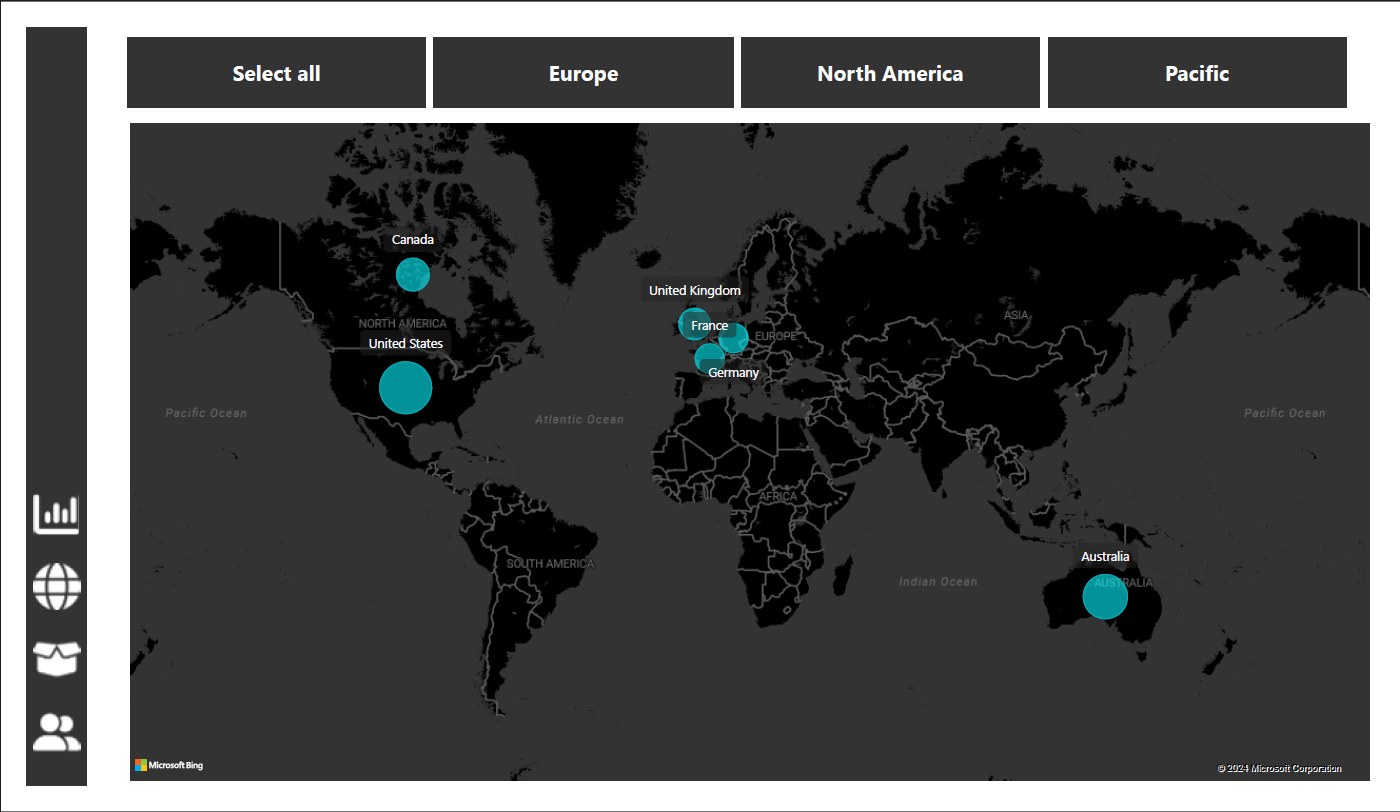

This screenshot's page, from the dashboard's own definition file:
{"tool":"powerbi","page":{"name":"Map","canvas":[1280,720],"ordinal":1},"visuals":[{"type":"shape","box":[0,0,45,720],"z":0},{"type":"actionButton","box":[2.5,516.7,45.6,37.8],"z":0,"group":"g1"},{"type":"actionButton","box":[3.3,563.4,45.6,37.8],"z":1000,"group":"g1"},{"type":"map","fields":{"Category":["Territory Lookup.Country"],"Size":["Measure Table.Total Orders"]},"box":[65.6,82.5,1191.3,622.8],"z":1000},{"type":"slicer","fields":{"Values":["Territory Lookup.Continent"]},"box":[43,13.6,1234.3,65.6],"z":2000},{"type":"actionButton","box":[3.3,611.1,45.6,37.8],"z":2000,"group":"g1"},{"type":"actionButton","box":[3.3,657.8,45.6,37.8],"z":3000,"group":"g1"},{"type":"group","id":"g1","title":"Navigation Buttons","box":[2.5,516.7,46.4,178.9],"z":3000}]}

Visuals, with their boxes on the page's 1280x720 design canvas (x1, y1, x2, y2). These are canvas units, not pixel positions in the 1400x812 screenshot, which may show the page scaled, cropped or inside an application window:
shape: crop(0, 0, 45, 720)
actionButton: crop(2, 517, 48, 554)
actionButton: crop(3, 563, 49, 601)
map - Territory Lookup.Country x Measure Table.Total Orders: crop(66, 82, 1257, 705)
slicer - Territory Lookup.Continent: crop(43, 14, 1277, 79)
actionButton: crop(3, 611, 49, 649)
actionButton: crop(3, 658, 49, 696)
"Navigation Buttons" group: crop(2, 517, 49, 696)
